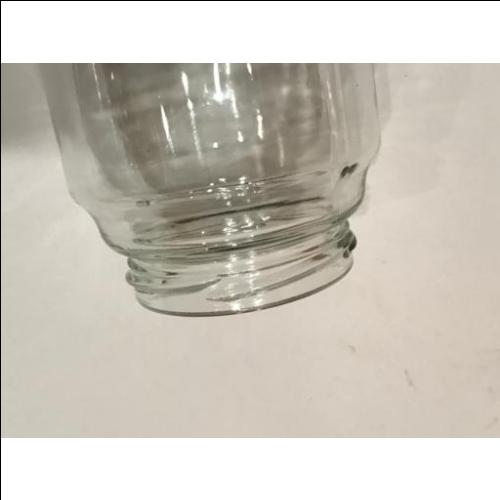glass: (43, 62, 380, 313)
